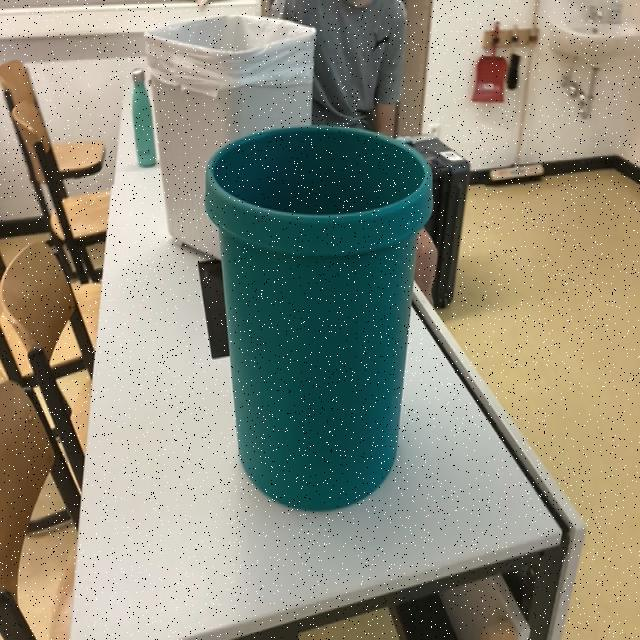garbage container: (201, 108, 442, 523), (146, 15, 327, 244)
